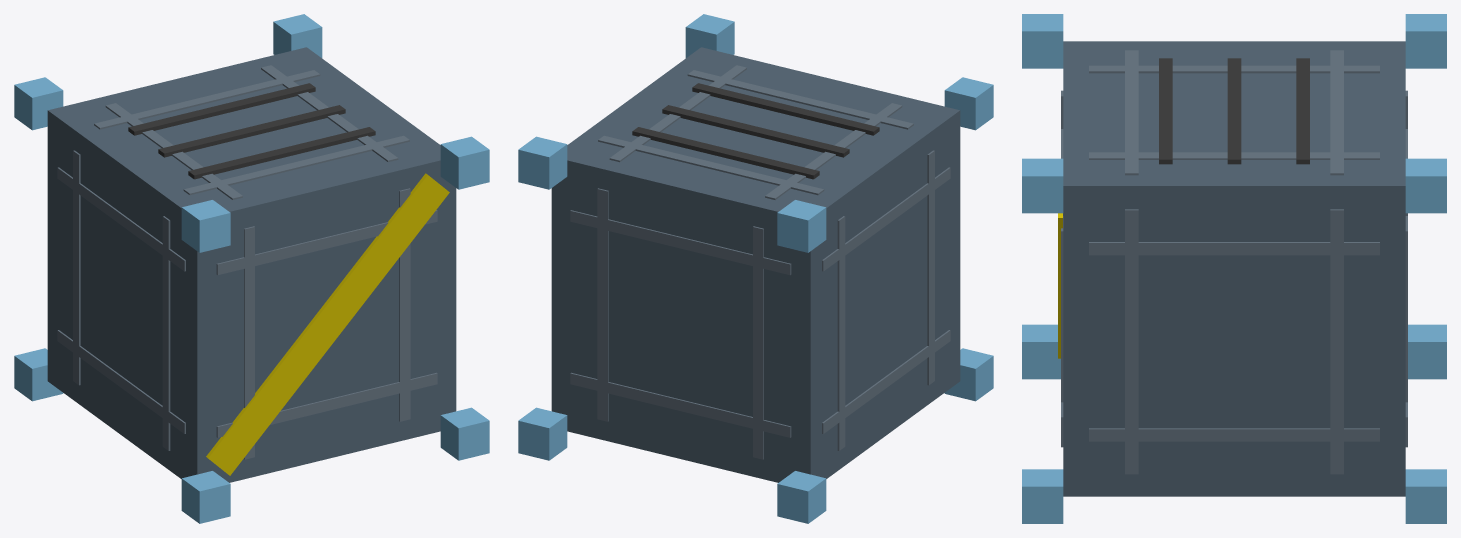
Rendered from scifi_crate.glb.
3 renders of one model, left to right at view 1: azimuth 30°, elevation 25°; view 2: azimuth 150°, elevation 25°; view 3: azimuth 270°, elevation 25°, orthographic. The views are drawn at different scales.
Parts seen in each view (by area): view 1: part_0, part_33, part_30, part_32, part_26, part_28, part_17, part_19, part_20, part_7, part_18, part_27 (+12 smaller); view 2: part_0, part_24, part_23, part_21, part_22, part_29, part_31, part_25, part_27, part_5, part_28, part_34 (+11 smaller); view 3: part_0, part_2, part_4, part_1, part_3, part_31, part_32, part_27, part_28, part_29, part_30, part_10 (+10 smaller).
Part boxes in pixels (box(x1,y1,x2,y2)): part_0: box(47, 47, 456, 482); part_33: box(206, 173, 449, 475); part_30: box(440, 407, 489, 460); part_32: box(440, 136, 489, 189); part_26: box(181, 471, 230, 523); part_28: box(181, 200, 230, 252); part_17: box(216, 372, 437, 437); part_19: box(216, 210, 437, 275); part_20: box(399, 188, 410, 421); part_7: box(162, 216, 170, 450); part_18: box(244, 226, 254, 459); part_27: box(14, 77, 63, 130); part_0: box(551, 47, 960, 482); part_24: box(597, 188, 608, 421); part_23: box(570, 210, 791, 275); part_21: box(570, 372, 791, 437); part_22: box(753, 226, 763, 459); part_29: box(518, 407, 567, 460); part_31: box(518, 136, 567, 189); part_25: box(777, 471, 826, 523); part_27: box(777, 200, 826, 252); part_5: box(837, 216, 845, 450); part_28: box(944, 77, 993, 130); part_34: box(632, 127, 819, 179); part_0: box(1063, 41, 1405, 496); part_2: box(1089, 428, 1379, 441); part_4: box(1089, 242, 1379, 255); part_1: box(1330, 209, 1343, 474); part_3: box(1125, 209, 1138, 474); part_31: box(1405, 158, 1446, 213); part_32: box(1022, 158, 1063, 213); part_27: box(1405, 14, 1446, 68); part_28: box(1022, 14, 1063, 68); part_29: box(1405, 469, 1446, 523); part_30: box(1022, 469, 1063, 523); part_10: box(1089, 65, 1379, 73).
Size of the model in its own units: 1.12 by 1.12 by 1.24.
